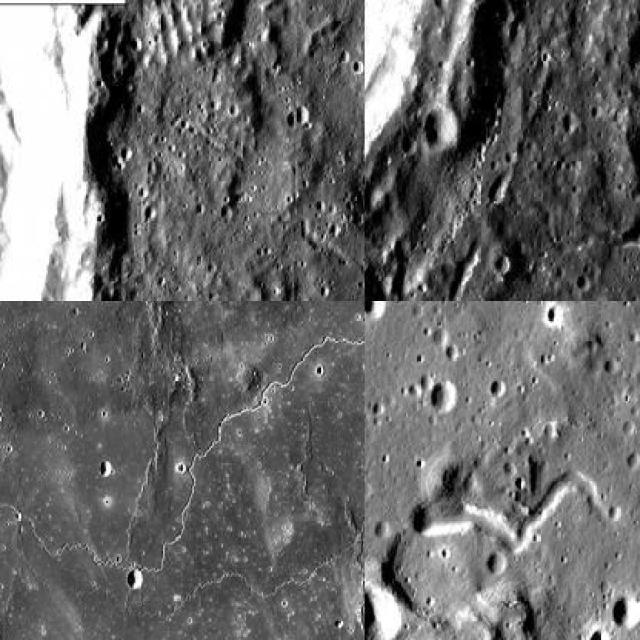rille: (0, 300, 363, 575), (23, 512, 363, 638), (442, 136, 638, 298), (409, 471, 614, 557)
